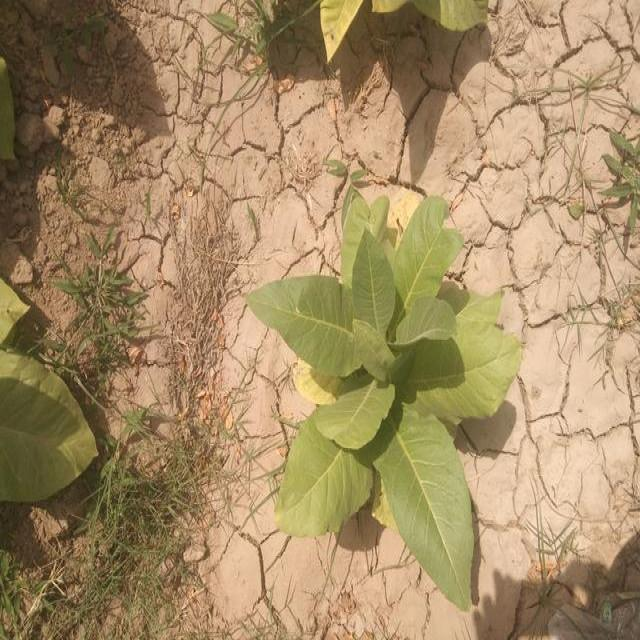crop: (266, 170, 520, 602), (0, 260, 99, 504), (310, 0, 492, 63)
